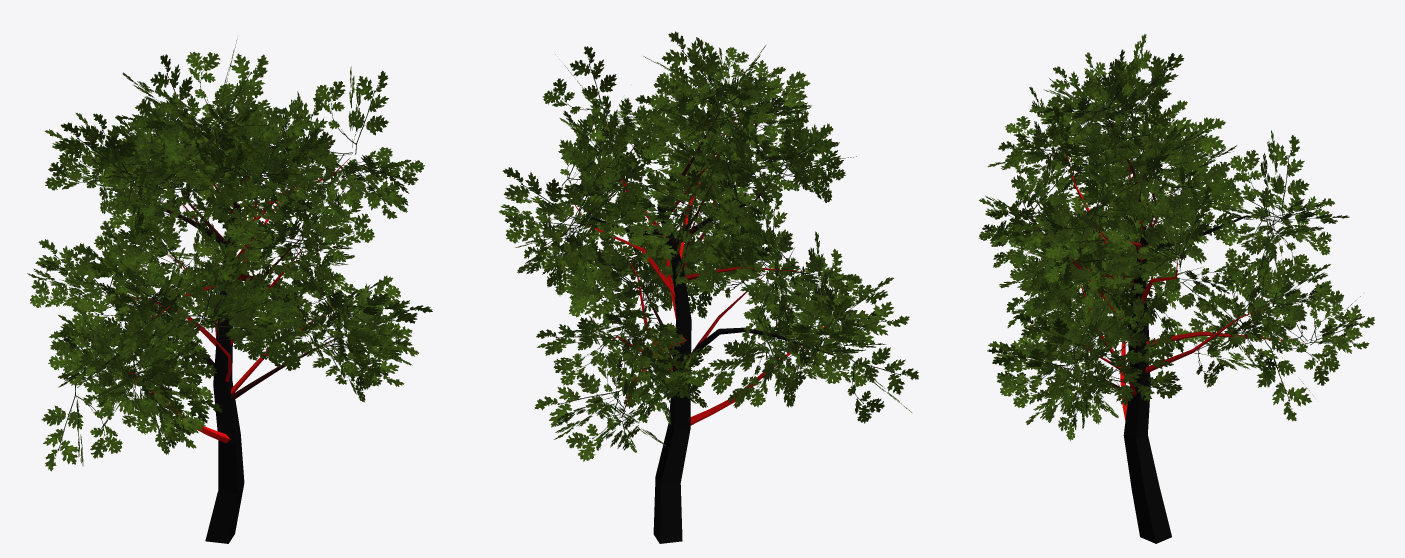
File: maple1 lod0.FBX
3 renders of one model, left to right at view 1: azimuth 30°, elevation 25°; view 2: azimuth 150°, elevation 25°; view 3: azimuth 270°, elevation 25°, orthographic. The views are drawn at different scales.
Parts seen in each view (by area): view 1: maple1; view 2: maple1; view 3: maple1.
Part boxes in pixels (left/top/right/bottom): maple1: left=27, top=39, right=432, bottom=543; maple1: left=499, top=31, right=918, bottom=543; maple1: left=978, top=34, right=1374, bottom=543.
Size of the model in its own units: 75381 by 95216 by 74340.
